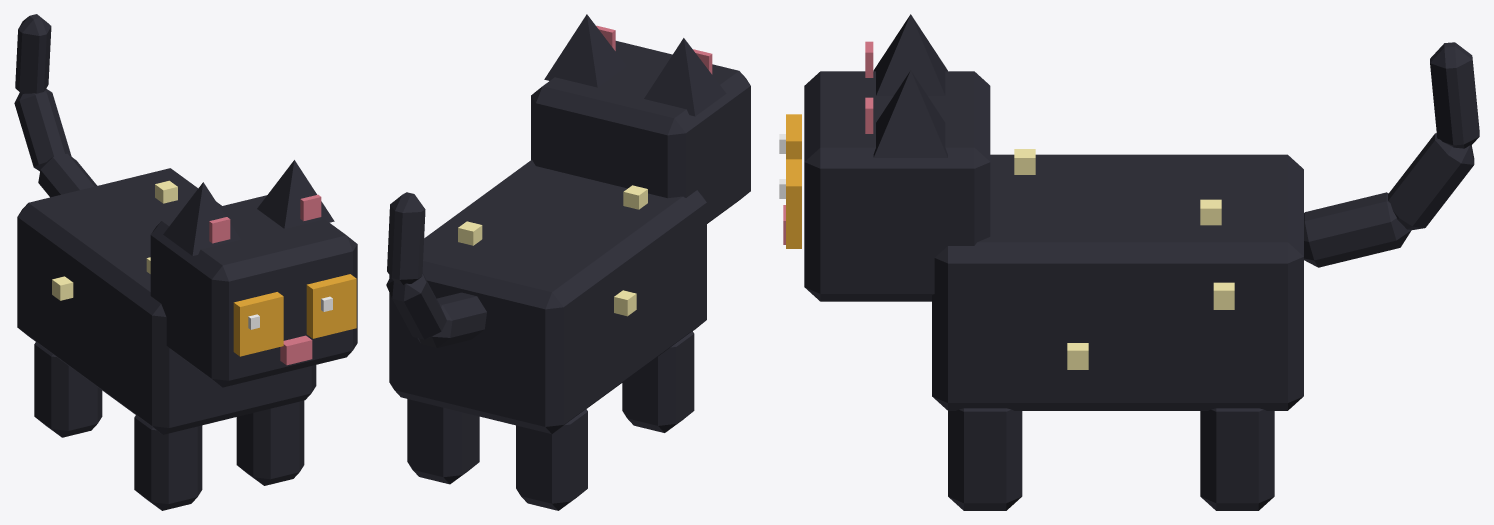
The model's file is CatCafe_Cat_Void.glb.
3 views of the same model, side by side, from view 1: azimuth 30°, elevation 25°; view 2: azimuth 150°, elevation 25°; view 3: azimuth 270°, elevation 25° (orthographic). The views are drawn at different scales.
Visible parts, largest first — view 1: CatCafe_Cat_Void_Body, CatCafe_Cat_Void_Head, CatCafe_Cat_Void_Tail; view 2: CatCafe_Cat_Void_Body, CatCafe_Cat_Void_Head, CatCafe_Cat_Void_Tail; view 3: CatCafe_Cat_Void_Body, CatCafe_Cat_Void_Head, CatCafe_Cat_Void_Tail.
Part boxes in pixels (x1,y1,x2,y2): CatCafe_Cat_Void_Body: [17, 168, 316, 510]; CatCafe_Cat_Void_Head: [150, 160, 357, 387]; CatCafe_Cat_Void_Tail: [14, 14, 97, 197]; CatCafe_Cat_Void_Body: [389, 160, 706, 510]; CatCafe_Cat_Void_Head: [531, 14, 750, 223]; CatCafe_Cat_Void_Tail: [386, 192, 486, 347]; CatCafe_Cat_Void_Body: [932, 149, 1303, 510]; CatCafe_Cat_Void_Head: [779, 14, 990, 301]; CatCafe_Cat_Void_Tail: [1304, 42, 1479, 267].
Bounding box in the file's own units: 1.04 × 1.78 × 2.64.
Materials: 1 (1 with a texture image).
